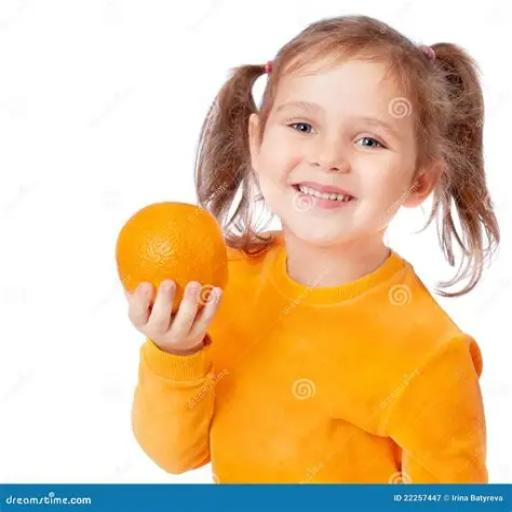orange: (116, 202, 227, 312)
